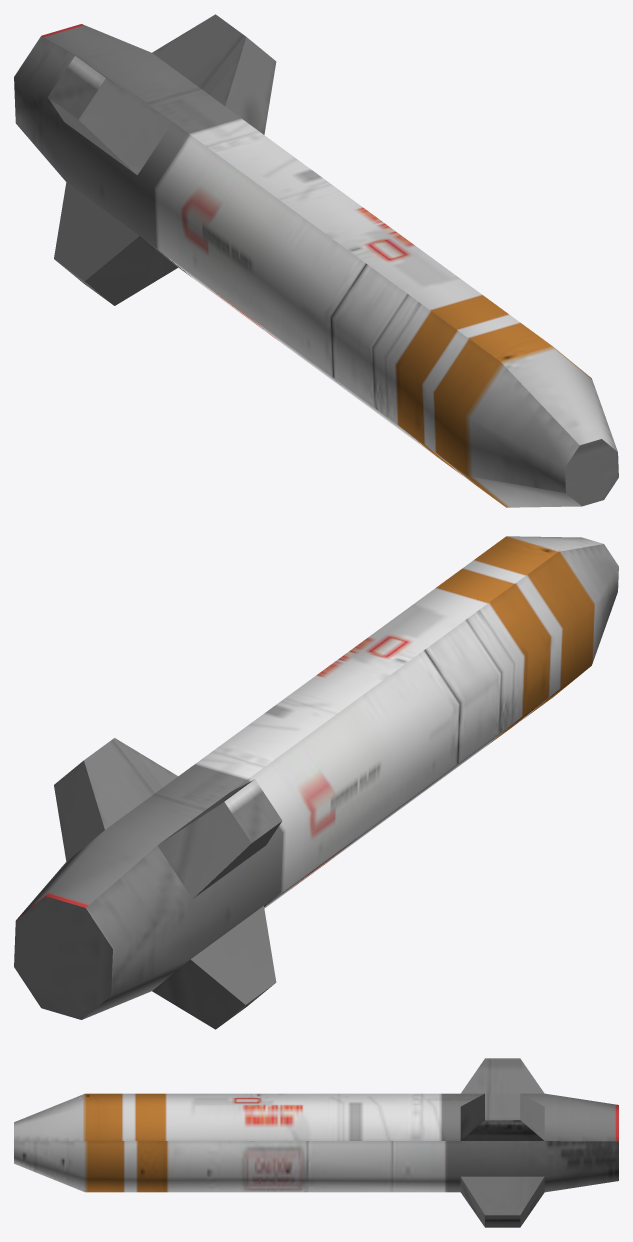
Rendered from Misile.fbx.
The picture shows the model from 3 angles, top to bottom: view 1: azimuth 30°, elevation 25°; view 2: azimuth 150°, elevation 25°; view 3: azimuth 270°, elevation 25°; orthographic projection. The views are drawn at different scales.
Parts seen in each view (by area): view 1: polySurface7; view 2: polySurface7; view 3: polySurface7.
Boxes of the visible parts, x1,y1,x2,y2 form: polySurface7: (14,14,618,507); polySurface7: (14,536,618,1029); polySurface7: (14,1058,618,1227).
Bounding box in the file's own units: 143 × 159 × 641.
